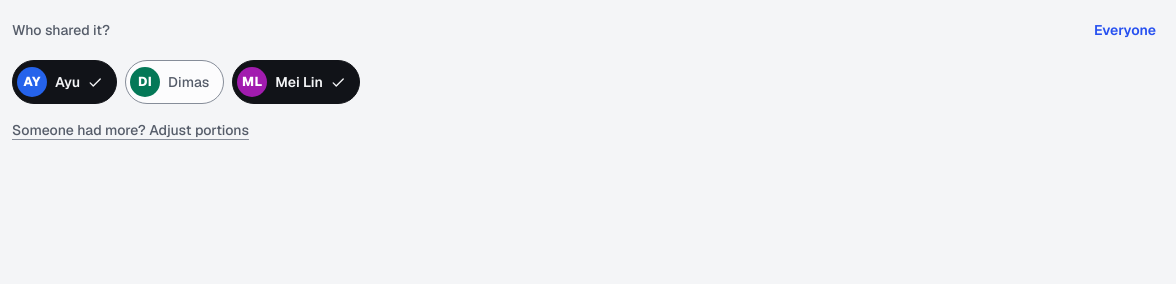
Test: EqualModeAssign portions › keeps portions hidden while everyone has one, and shows steppers only for included people when opened
The image size is (1176, 284).
Click the button "Someone had more? Adjust portions" at (130, 130), box x1=12 y1=116 x2=249 y2=144
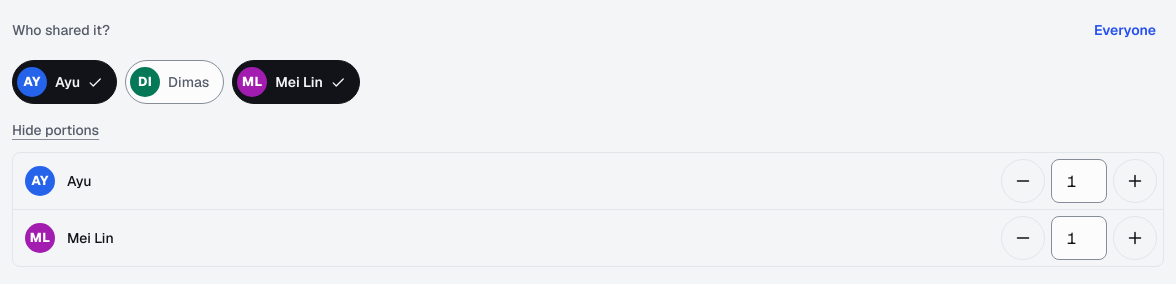
expect the button "Hide portions" is expanded: met, box x1=12 y1=116 x2=99 y2=144
expect the button named "Increase Portions for Ayu" is shown: met, box x1=1113 y1=159 x2=1157 y2=203
expect the button named "Increase Portions for Mei Lin" is shown: met, box x1=1113 y1=216 x2=1157 y2=260
